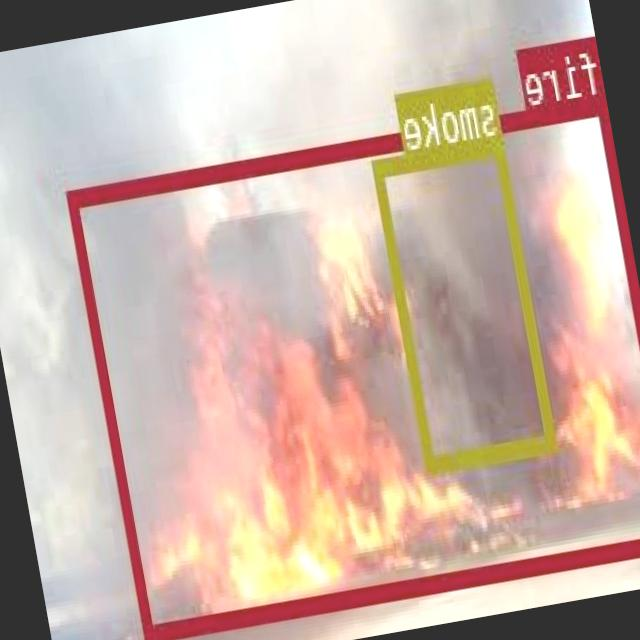fire: (67, 93, 640, 638)
smoke: (372, 134, 558, 468)
